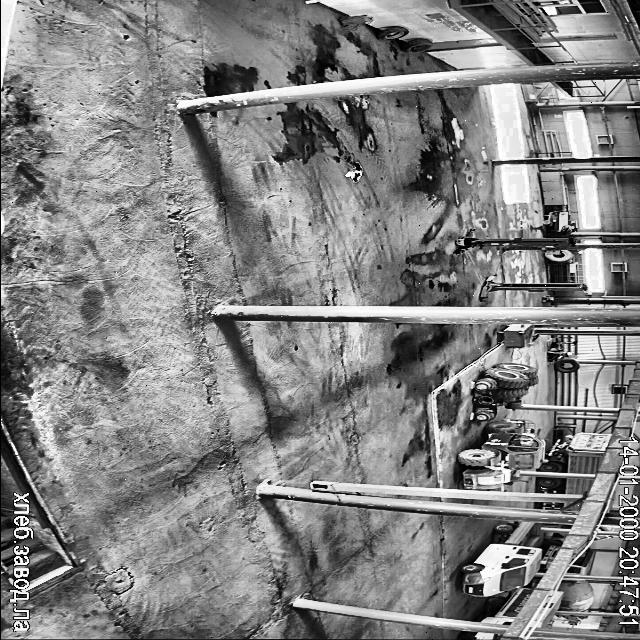class6: (458, 420, 546, 489), (474, 362, 538, 420)
class7: (460, 521, 540, 596), (540, 432, 612, 472), (484, 588, 532, 624), (559, 580, 594, 610), (538, 477, 592, 494), (538, 592, 562, 628), (540, 536, 563, 572), (567, 548, 595, 574), (463, 632, 500, 640), (543, 500, 563, 508), (570, 504, 580, 510)
tractor: (340, 16, 372, 25)
truck: (479, 275, 588, 300), (455, 230, 573, 252)
